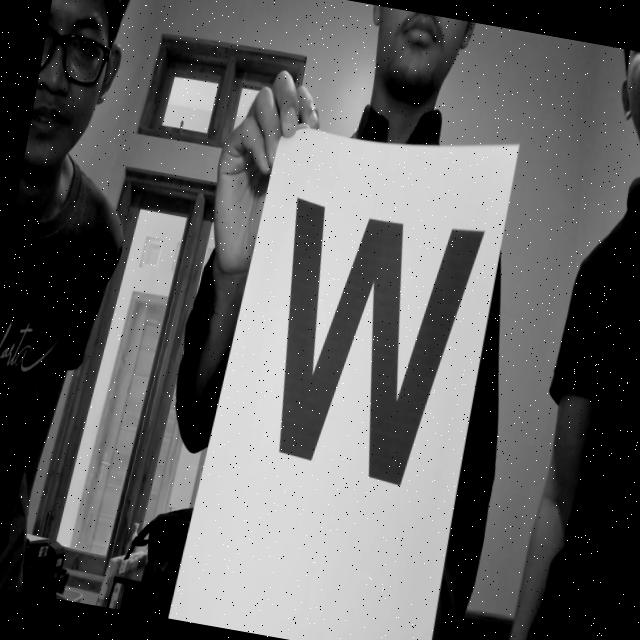w: (235, 185, 492, 533)
